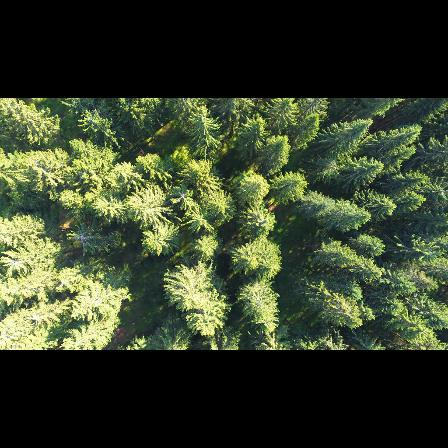Sick: (63, 220, 97, 259), (172, 187, 193, 209)
